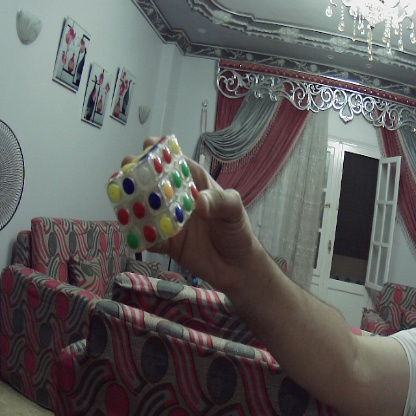Rubix Cube: (108, 132, 193, 257)
